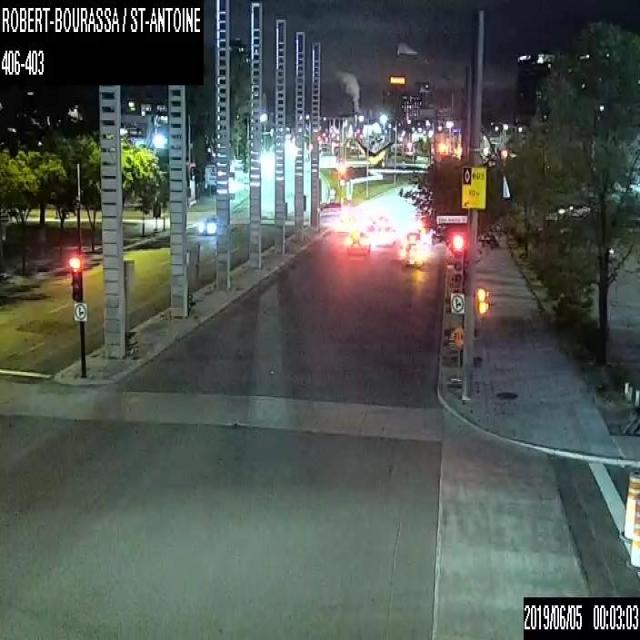construction: (619, 469, 639, 542), (123, 259, 137, 355), (186, 240, 200, 309), (626, 498, 639, 570), (449, 324, 462, 383)
vehicle: (345, 230, 369, 254), (401, 242, 422, 266), (376, 224, 395, 246), (198, 216, 216, 233), (405, 223, 421, 241)
